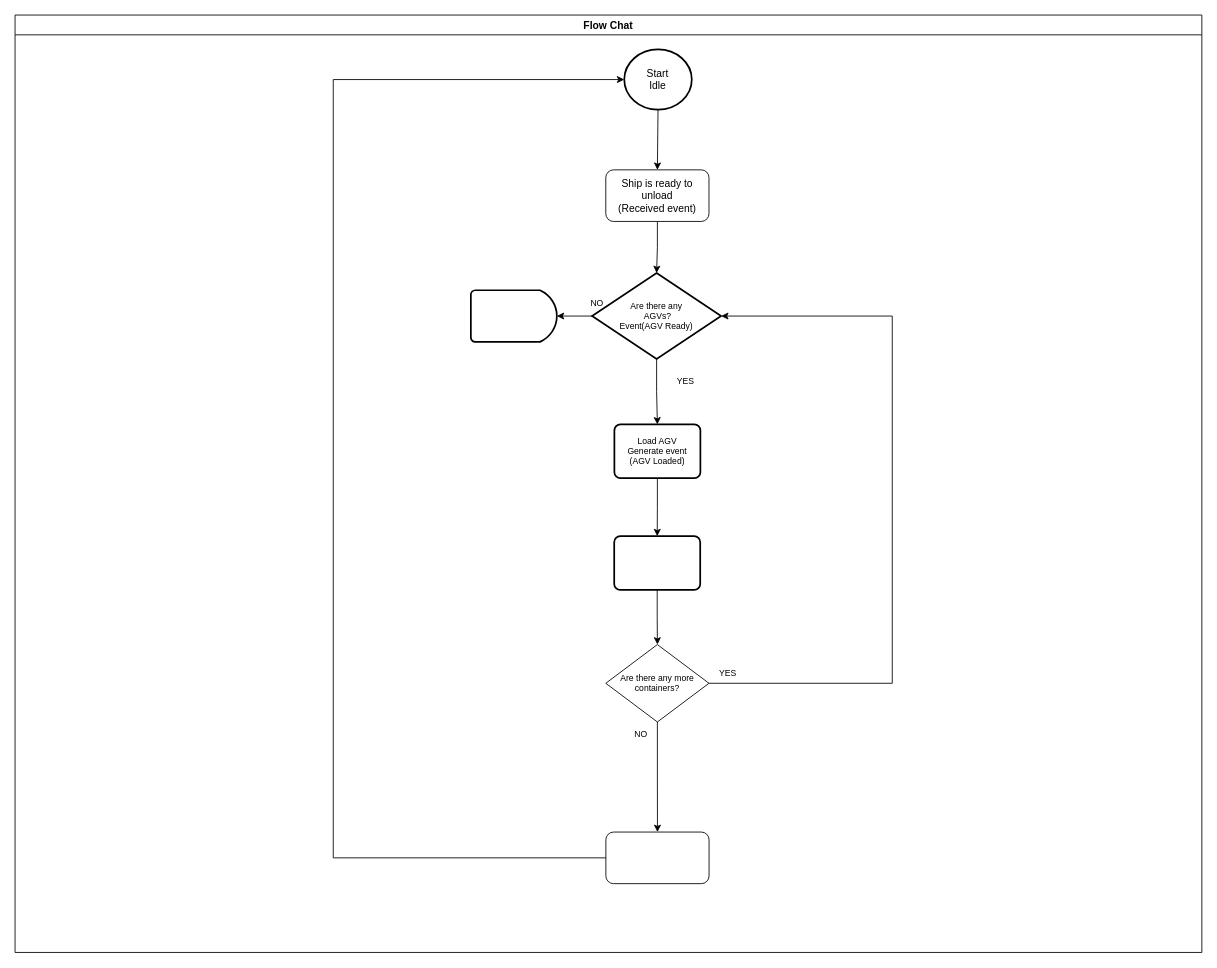
Some shapes in this 1217 by 968 pixel diagram are drawn without their labels. Each missing label, with the centre of its shape:
(Generate event) Ship ready to depart: the point at 657,857
Reduce number of containers: the point at 657,562
Wait for AGV: the point at 513,315
